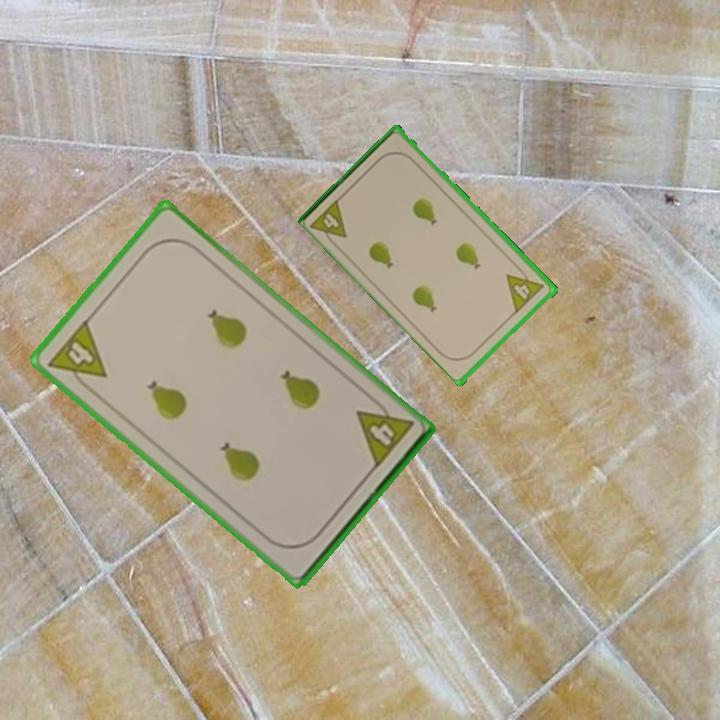4p: (44, 315, 110, 396), (352, 393, 416, 472), (307, 194, 350, 250), (503, 262, 548, 315)
